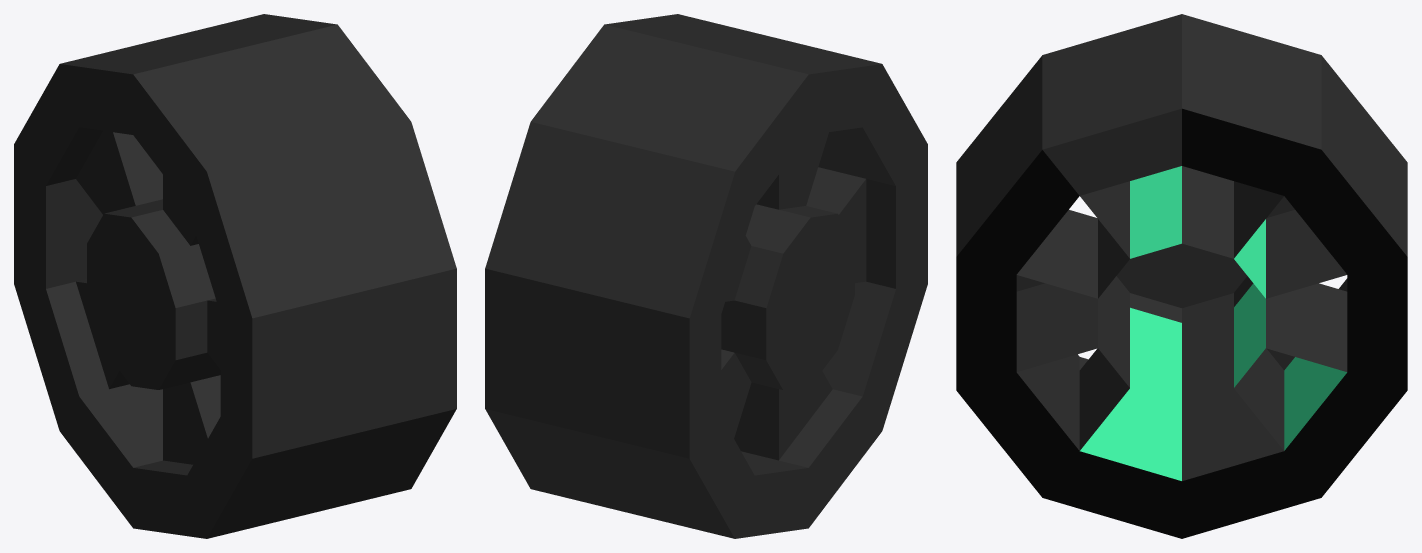
File: car_wheel.fbx
3 views of the same model, side by side, from view 1: azimuth 30°, elevation 25°; view 2: azimuth 150°, elevation 25°; view 3: azimuth 270°, elevation 25° (orthographic). The views are drawn at different scales.
Parts seen in each view (by area): view 1: Cube; view 2: Cube; view 3: Cube.
Boxes of the visible parts, x1=… form: Cube: x1=14, y1=14, x2=456, y2=538; Cube: x1=485, y1=14, x2=927, y2=538; Cube: x1=956, y1=14, x2=1407, y2=538.
Bounding box in the file's own units: 0.294 × 0.618 × 0.5878.
